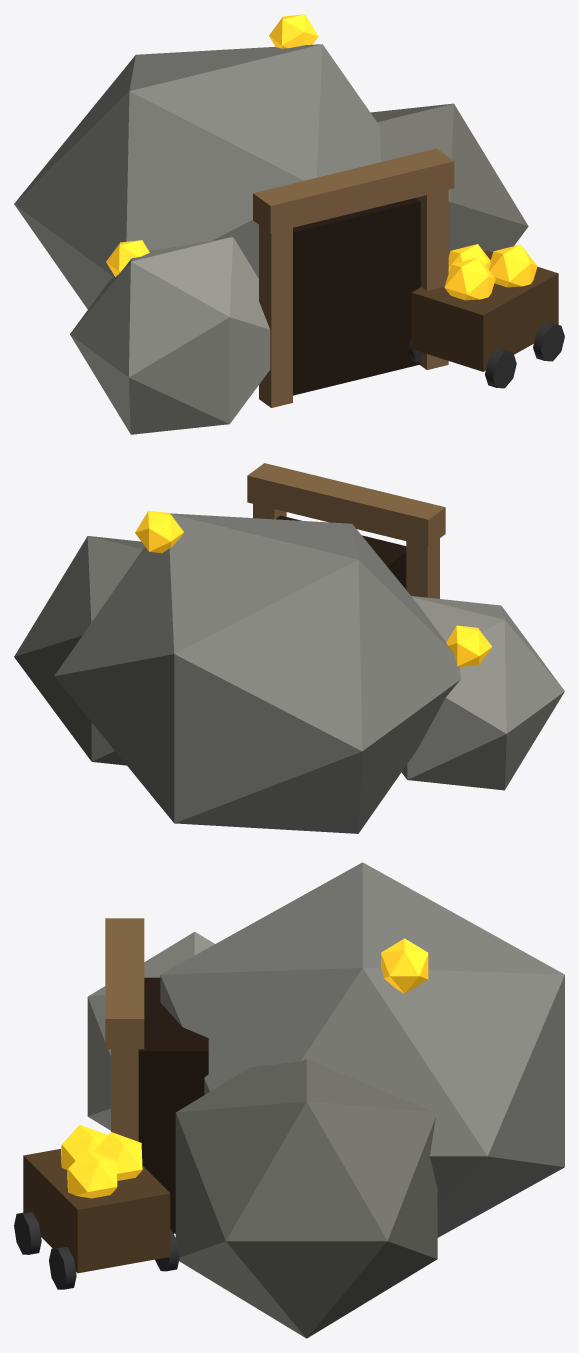
File: goblin-level1.glb
3 renders of one model, top to bottom at view 1: azimuth 30°, elevation 25°; view 2: azimuth 150°, elevation 25°; view 3: azimuth 270°, elevation 25°, orthographic. The views are drawn at different scales.
Bounding box in the file's own units: 2.05 × 1.3 × 1.97.
